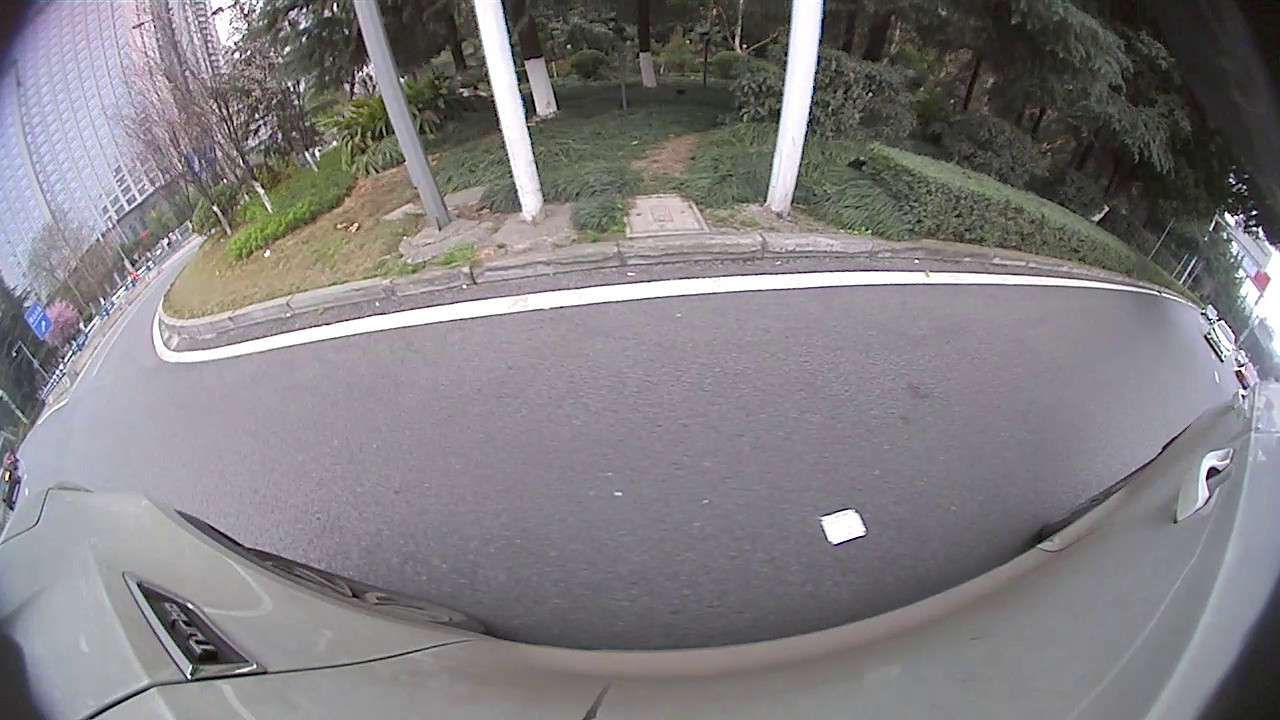bus: (808, 122, 1084, 262)
car: (170, 149, 467, 318), (543, 97, 798, 267), (797, 142, 1019, 270), (1158, 258, 1278, 397), (1101, 261, 1199, 316)
front: (1179, 317, 1215, 373), (432, 193, 464, 242), (1112, 279, 1141, 306)
rear: (292, 229, 352, 309), (865, 203, 906, 260)
